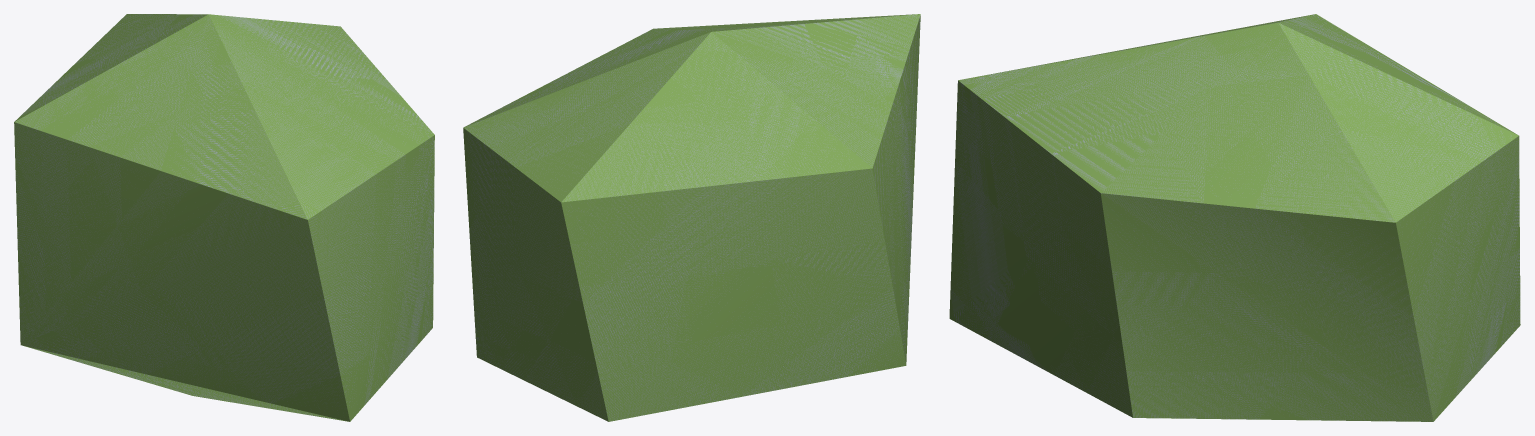
Rendered from Bush_Small_03.fbx.
The picture shows the model from 3 angles, left to right: view 1: azimuth 30°, elevation 25°; view 2: azimuth 150°, elevation 25°; view 3: azimuth 270°, elevation 25°; orthographic projection. The views are drawn at different scales.
Parts seen in each view (by area): view 1: Model; view 2: Model; view 3: Model.
Boxes of the visible parts, x1,y1,x2,y2 form: Model: (14, 14, 434, 421); Model: (463, 14, 920, 421); Model: (949, 14, 1520, 421).
Bounding box in the file's own units: 192 × 170 × 239.
